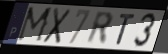3: (132, 12, 158, 50)
7: (67, 9, 93, 46)
M: (15, 6, 54, 44)
R: (85, 10, 115, 46)
T: (115, 14, 137, 47)
X: (41, 7, 73, 46)
